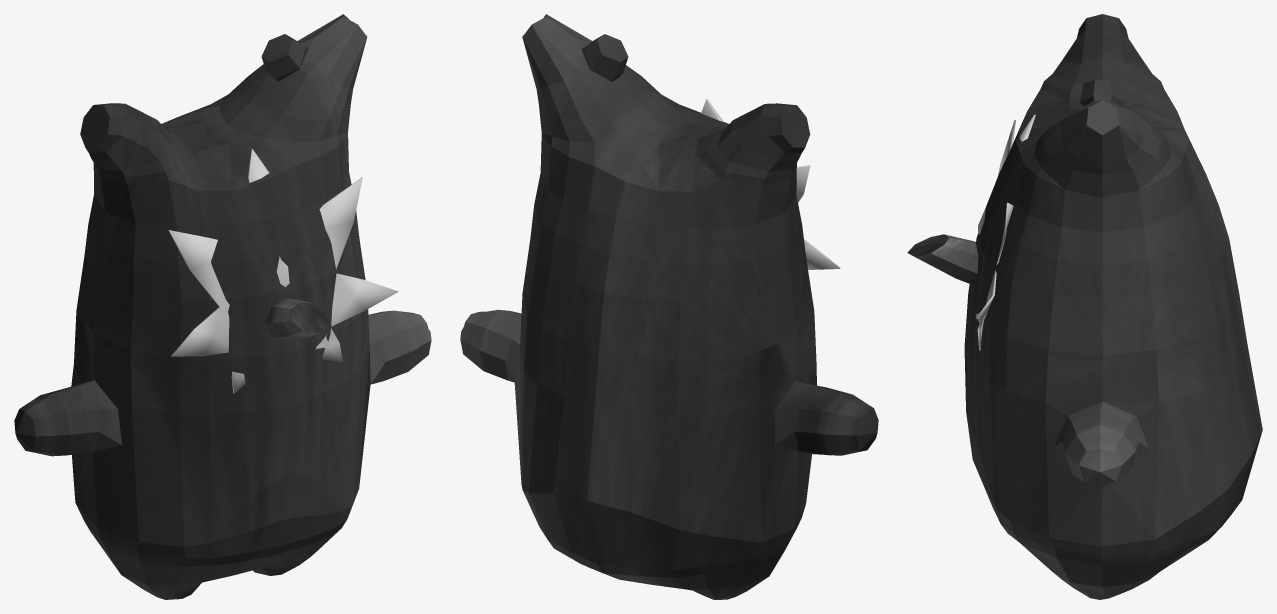
Rendered from frame_0008.obj.
The picture shows the model from 3 angles, left to right: view 1: azimuth 30°, elevation 25°; view 2: azimuth 150°, elevation 25°; view 3: azimuth 270°, elevation 25°; orthographic projection.
Parts seen in each view (by area): view 1: korok, leaf.003_柱体.013, nose.003_柱体.011; view 2: korok, leaf.003_柱体.013; view 3: korok, nose.003_柱体.011, leaf.003_柱体.013.
Part boxes in pixels (<box>): korok: <box>14,14,431,599</box>; leaf.003_柱体.013: <box>168,148,398,393</box>; nose.003_柱体.011: <box>265,298,329,340</box>; korok: <box>460,14,878,599</box>; leaf.003_柱体.013: <box>701,98,840,269</box>; korok: <box>964,14,1262,599</box>; nose.003_柱体.011: <box>907,234,978,285</box>; leaf.003_柱体.013: <box>975,114,1035,350</box>.
Size of the model in its own units: 1.92 by 2.38 by 1.44.
